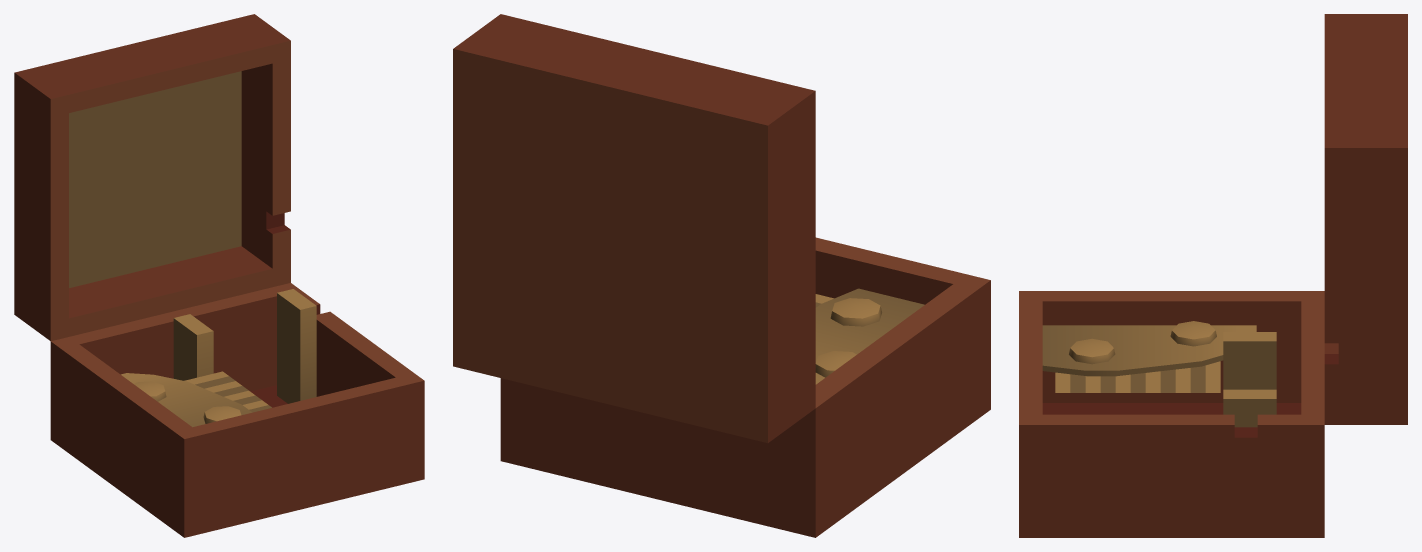
File: human-music-music-box_v1.glb
3 views of the same model, side by side, from view 1: azimuth 30°, elevation 25°; view 2: azimuth 150°, elevation 25°; view 3: azimuth 270°, elevation 25° (orthographic). The views are drawn at different scales.
Parts seen in each view (by area): view 1: Music Box; view 2: Music Box; view 3: Music Box.
Part boxes in pixels (x1=…): Music Box: x1=14, y1=14, x2=424, y2=537; Music Box: x1=453, y1=14, x2=990, y2=537; Music Box: x1=1019, y1=14, x2=1407, y2=537.
Size of the model in its own units: 0.0884 by 0.12 by 0.1084.
